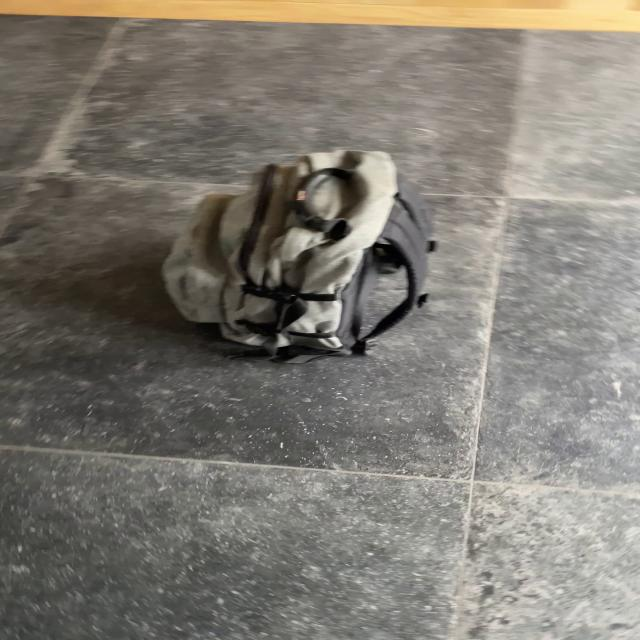backpack: (147, 142, 448, 363)
